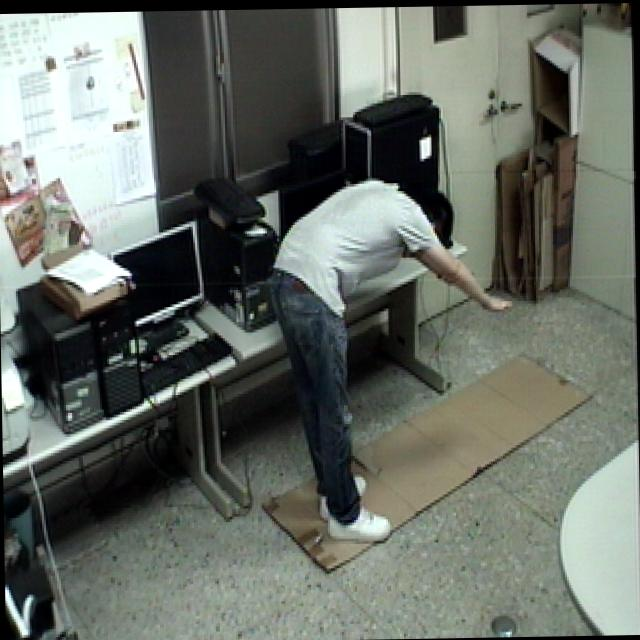bend: (263, 173, 514, 545)
